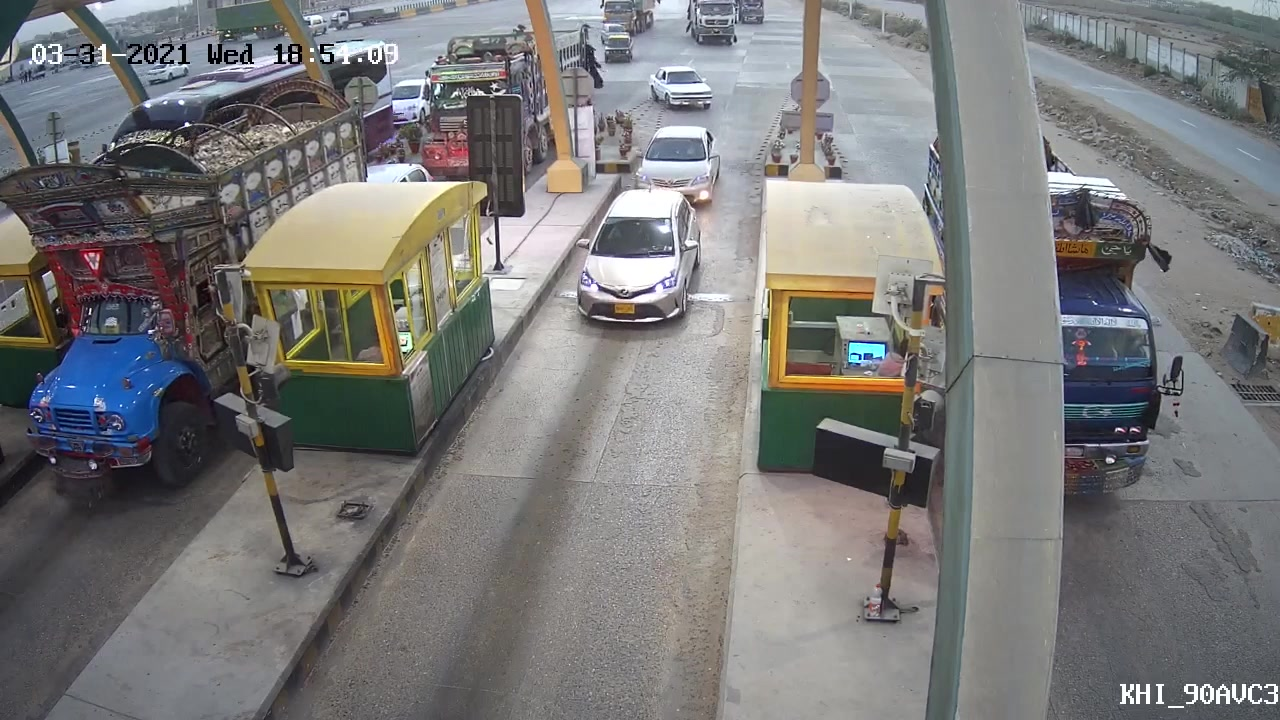F1: (562, 183, 704, 342)
